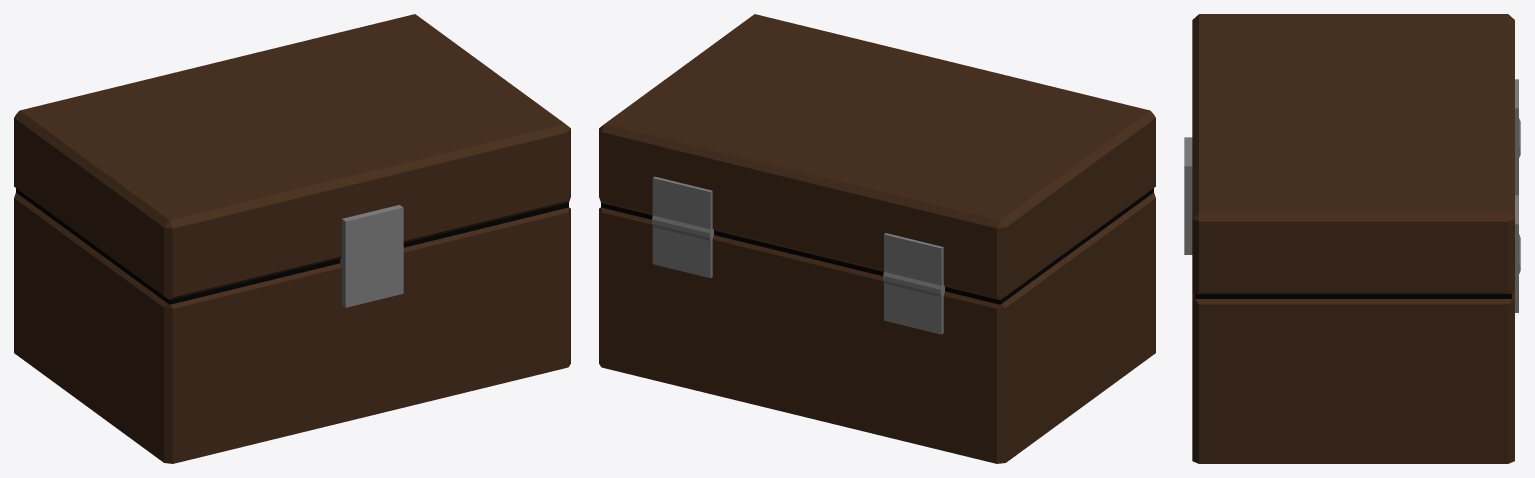
File: chest.fbx
3 renders of one model, left to right at view 1: azimuth 30°, elevation 25°; view 2: azimuth 150°, elevation 25°; view 3: azimuth 270°, elevation 25°, orthographic. The views are drawn at different scales.
Visible parts, largest first — view 1: Cube; view 2: Cube; view 3: Cube.
Boxes of the visible parts, bbox=[...] form: Cube: bbox=[14, 14, 570, 463]; Cube: bbox=[599, 14, 1155, 463]; Cube: bbox=[1184, 14, 1520, 463].
Bounding box in the file's own units: 300 × 170 × 208.
